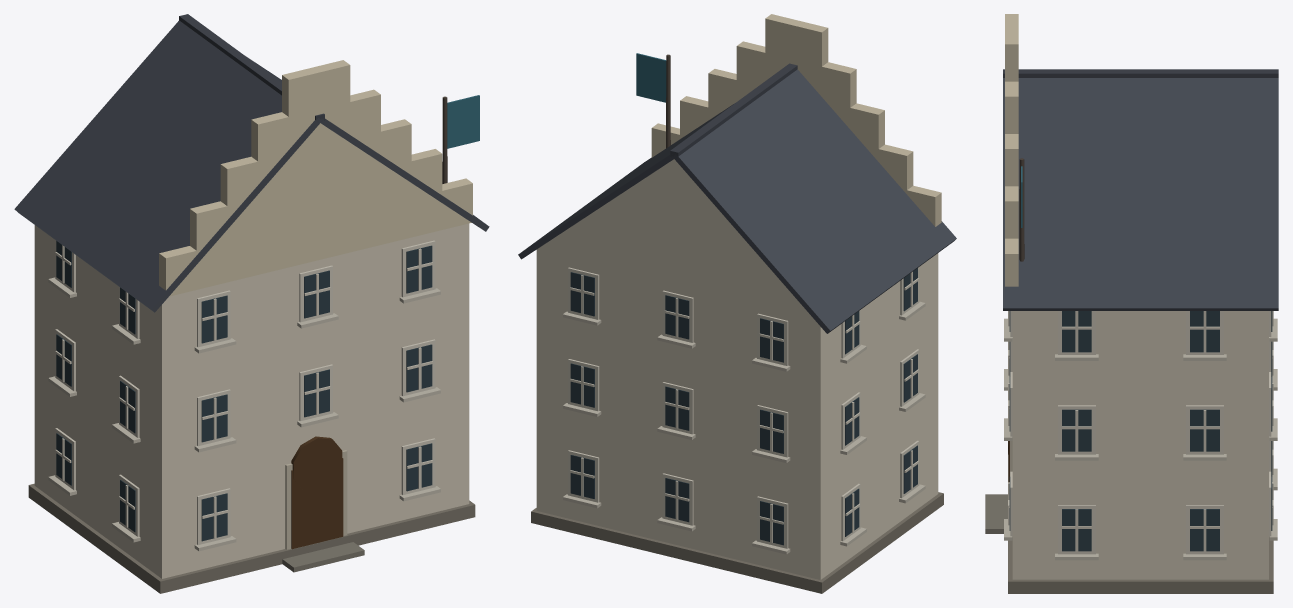
File: procedural_guildhall@4.glb
The picture shows the model from 3 angles, left to right: view 1: azimuth 30°, elevation 25°; view 2: azimuth 150°, elevation 25°; view 3: azimuth 270°, elevation 25°; orthographic projection. The views are drawn at different scales.
Visible parts, largest first — view 1: part_0; view 2: part_0; view 3: part_0.
Boxes of the visible parts, left/top/right/bottom form: part_0: left=14, top=14, right=489, bottom=593; part_0: left=518, top=14, right=956, bottom=593; part_0: left=985, top=14, right=1278, bottom=593.
Bounding box in the file's own units: 8.59 × 11.75 × 6.41.
